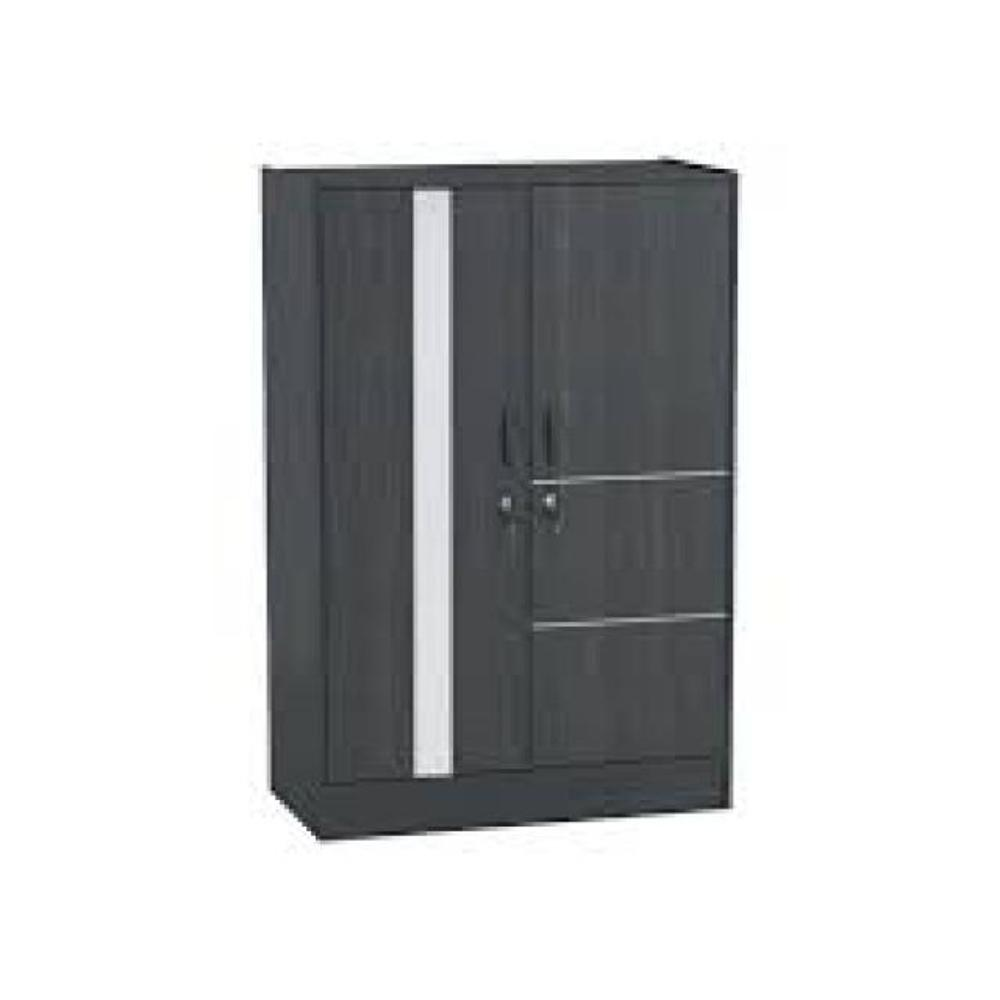cabinet: (261, 150, 739, 846)
